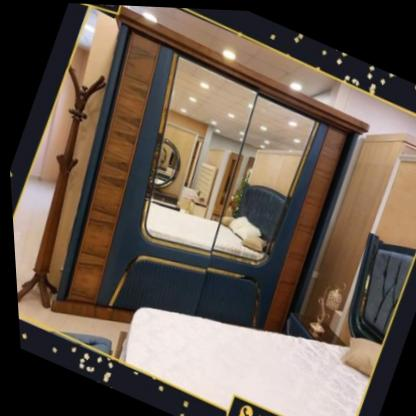Bed: (114, 306, 378, 416)
Ceramic floor: (10, 137, 80, 330)
Closet: (42, 15, 367, 333)
